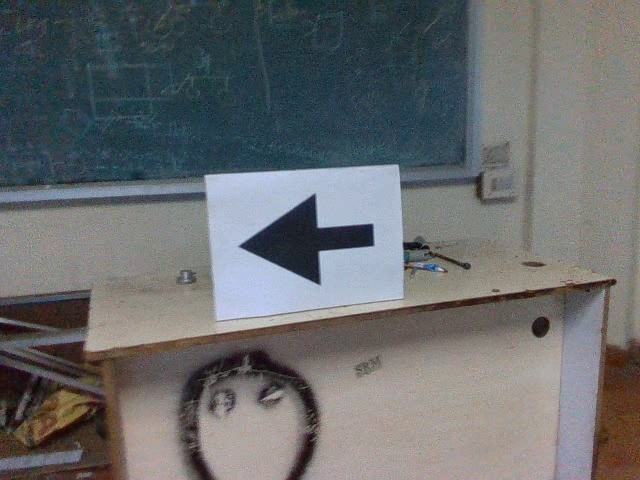Left: (230, 189, 381, 291)
